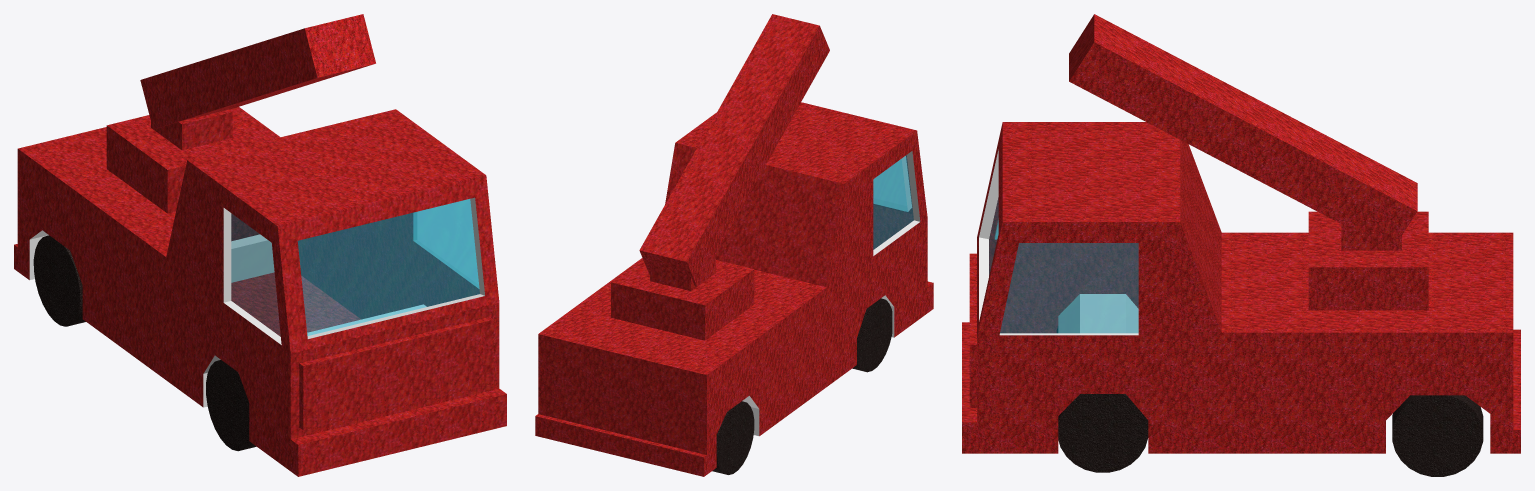
File: firecar.fbx
3 views of the same model, side by side, from view 1: azimuth 30°, elevation 25°; view 2: azimuth 150°, elevation 25°; view 3: azimuth 270°, elevation 25° (orthographic). The views are drawn at different scales.
Visible parts, largest first — view 1: Model; view 2: Model; view 3: Model.
Boxes of the visible parts, x1,y1,x2,y2 form: Model: (14,14,506,476); Model: (535,14,933,476); Model: (962,14,1520,476).
Size of the model in its own units: 1.6 by 2.97 by 3.77.
